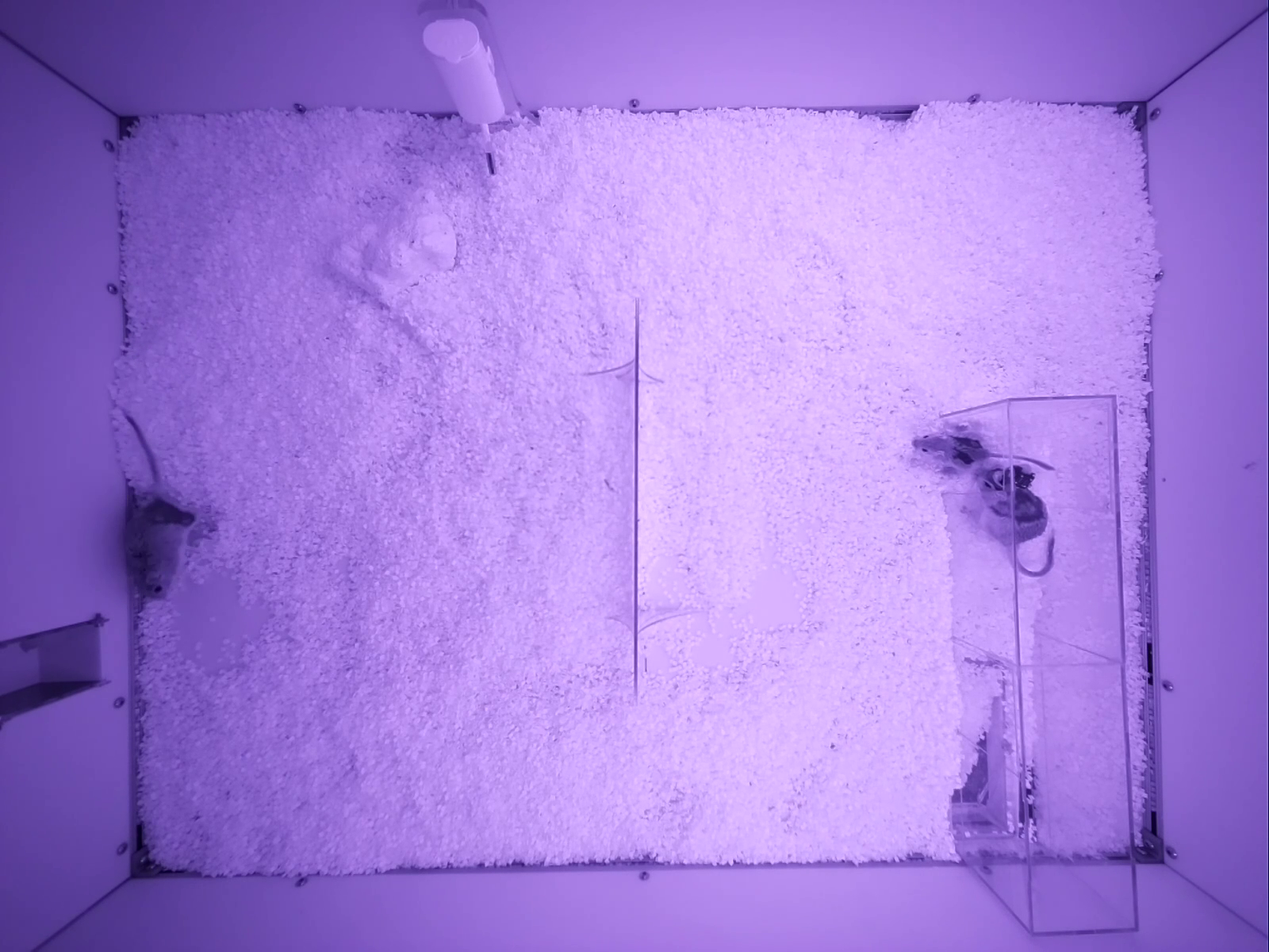adult_back: (125, 413, 194, 597), (976, 465, 1055, 577), (912, 433, 1007, 468)
